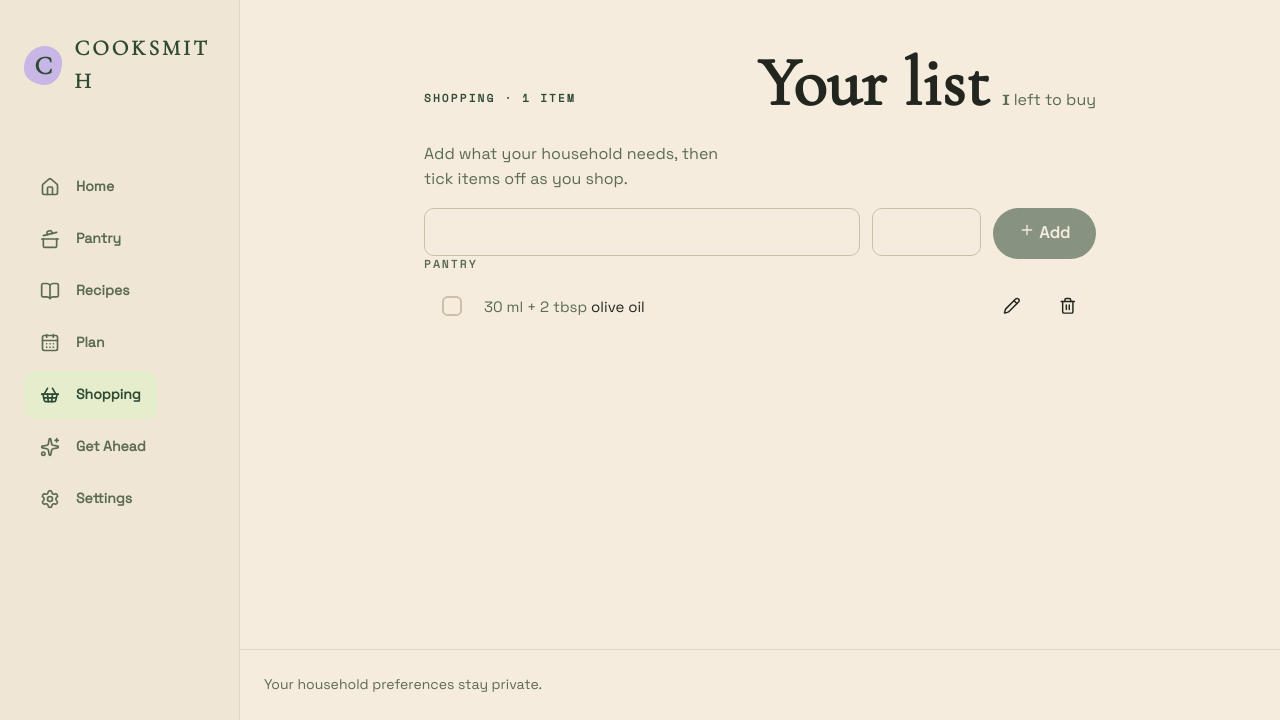
clean combined purchases › lets a shopper confirm the sizes of unresolved spoons in a combined purchase
Expected: the text "30 ml + 2 tbsp" is shown, left=484, top=297, right=591, bottom=316
Click the button named "Edit olive oil": (1012,306) left=988, top=282, right=1036, bottom=330
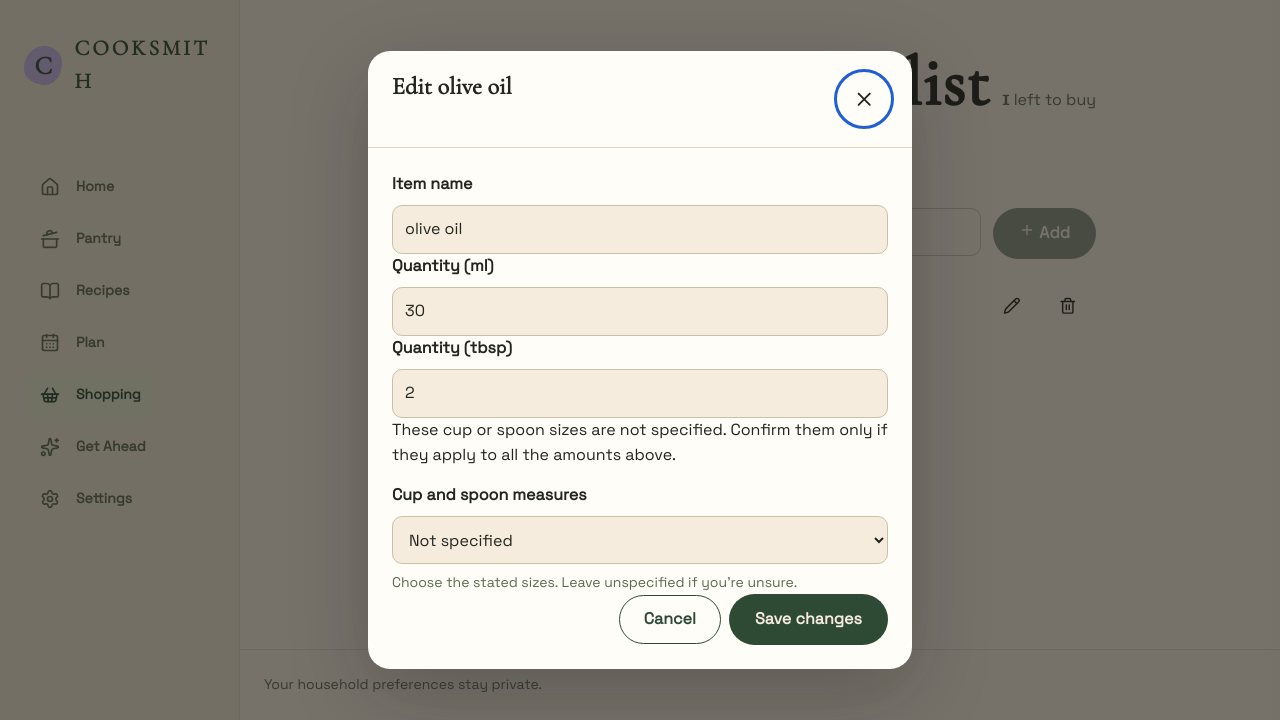
Select "Australian — 20 ml tablespoon, 250 ml cup" in the dropdown labelled "Cup and spoon measures": (640,540) left=392, top=516, right=888, bottom=564
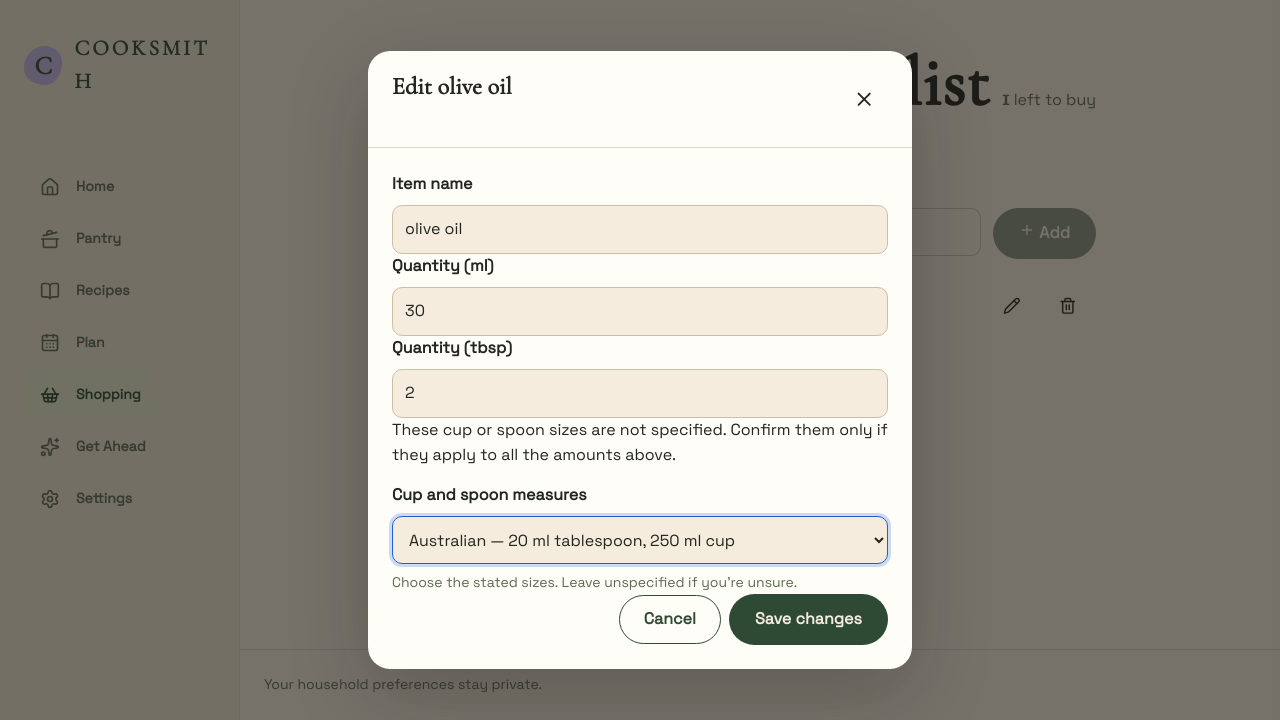
Click the button "Save changes": (808,620) left=729, top=594, right=888, bottom=645
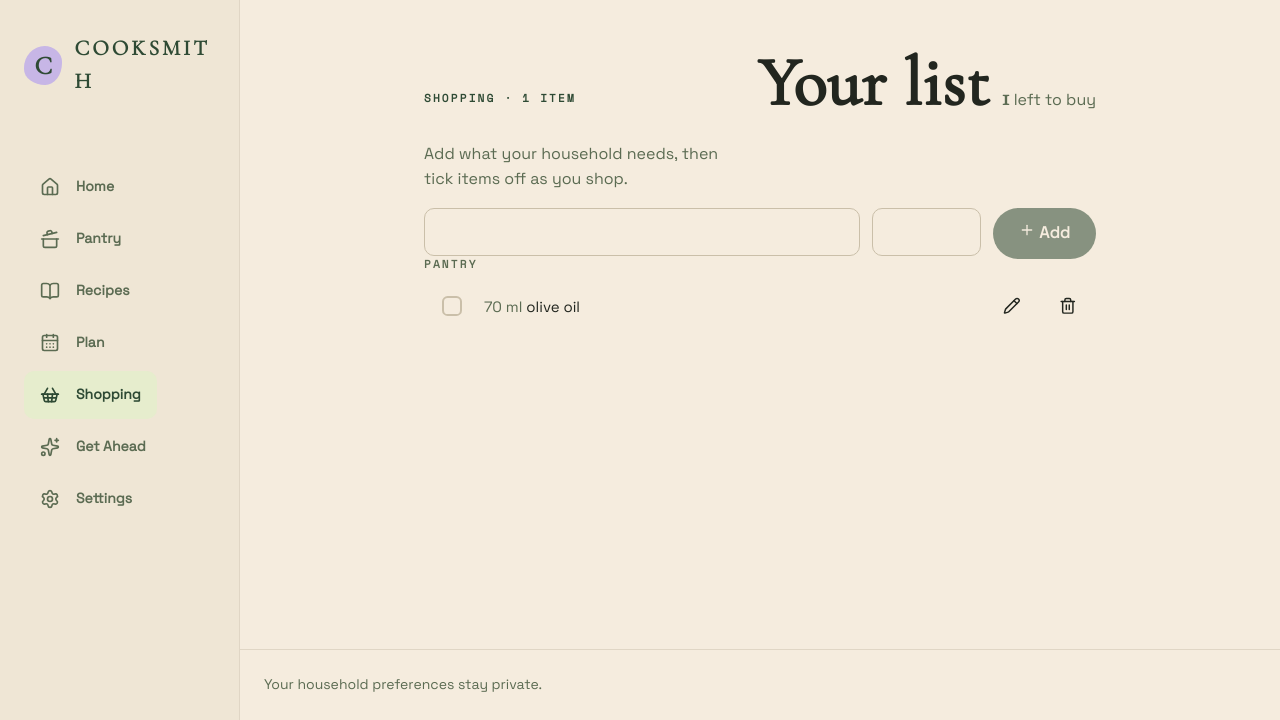
Now the text "70 ml" is shown, box left=484, top=297, right=526, bottom=316
